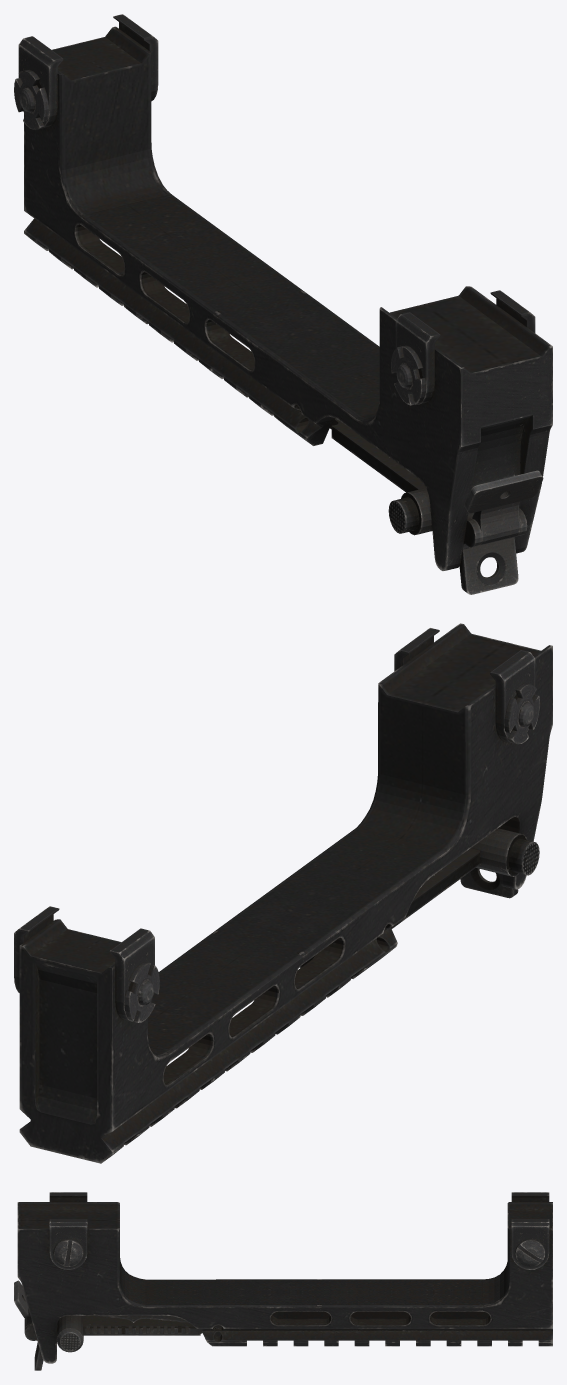
3 renders of one model, top to bottom at view 1: azimuth 30°, elevation 25°; view 2: azimuth 150°, elevation 25°; view 3: azimuth 270°, elevation 25°, orthographic. The views are drawn at different scales.
Parts seen in each view (by area): view 1: TW_5caf1691ae92152ac412efb9_PZ_Import; view 2: TW_5caf1691ae92152ac412efb9_PZ_Import; view 3: TW_5caf1691ae92152ac412efb9_PZ_Import.
Boxes of the visible parts, left/top/right/bottom form: TW_5caf1691ae92152ac412efb9_PZ_Import: left=14, top=14, right=552, bottom=594; TW_5caf1691ae92152ac412efb9_PZ_Import: left=14, top=623, right=552, bottom=1163; TW_5caf1691ae92152ac412efb9_PZ_Import: left=14, top=1192, right=552, bottom=1370.
Size of the model in its own units: 0.0176 by 0.1018 by 0.0327.
Materials: 1 (1 with a texture image).
